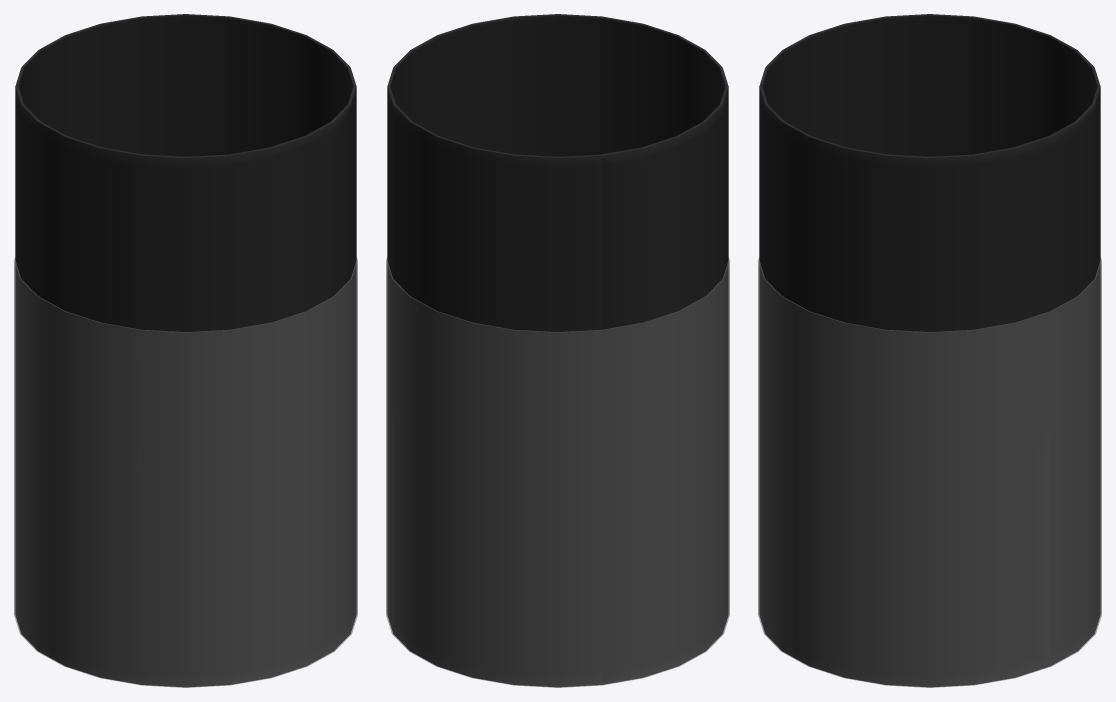
3 renders of one model, left to right at view 1: azimuth 30°, elevation 25°; view 2: azimuth 150°, elevation 25°; view 3: azimuth 270°, elevation 25°, orthographic.
Parts seen in each view (by area): view 1: 302_GuZuo_JinShuQuan, 302_SuLiaoMo; view 2: 302_GuZuo_JinShuQuan, 302_SuLiaoMo; view 3: 302_GuZuo_JinShuQuan, 302_SuLiaoMo.
Boxes of the visible parts, <box> form: 302_GuZuo_JinShuQuan: <box>15,14,356,687</box>; 302_SuLiaoMo: <box>14,257,357,687</box>; 302_GuZuo_JinShuQuan: <box>387,14,728,687</box>; 302_SuLiaoMo: <box>386,257,729,687</box>; 302_GuZuo_JinShuQuan: <box>759,14,1100,687</box>; 302_SuLiaoMo: <box>758,257,1101,687</box>.
Size of the model in its own units: 3.15 by 5.36 by 3.15.
Materials: 2 (1 with a texture image).
